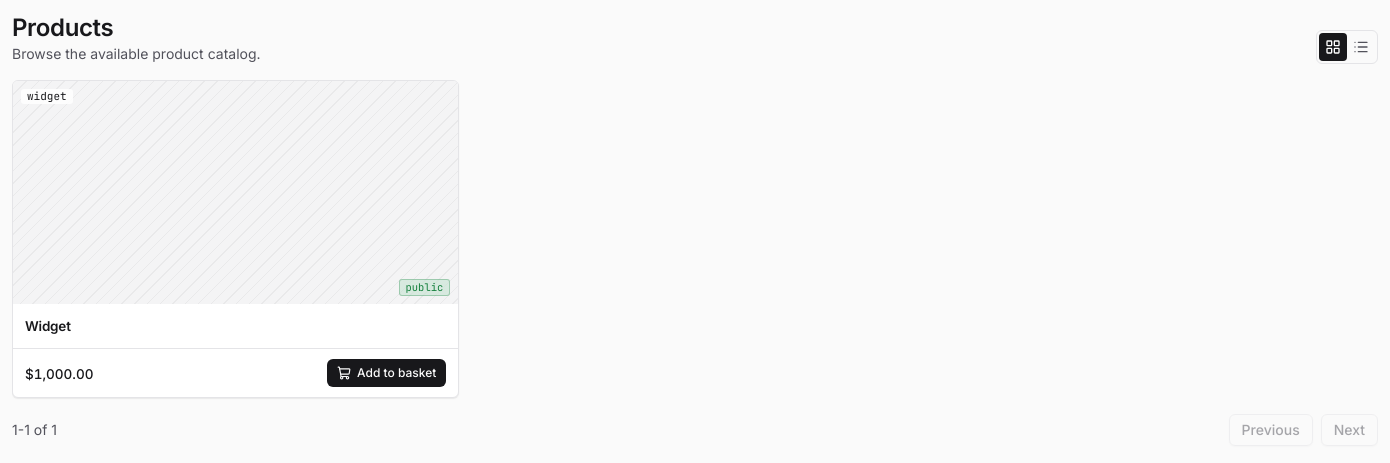
PortalProductsRoute › switching to table view re-renders with the table headers
Expected: the heading "Widget" is shown, x1=25 y1=318 x2=71 y2=334
Step 1. Click the button named "table view" → (1361, 47), box x1=1347 y1=33 x2=1375 y2=61
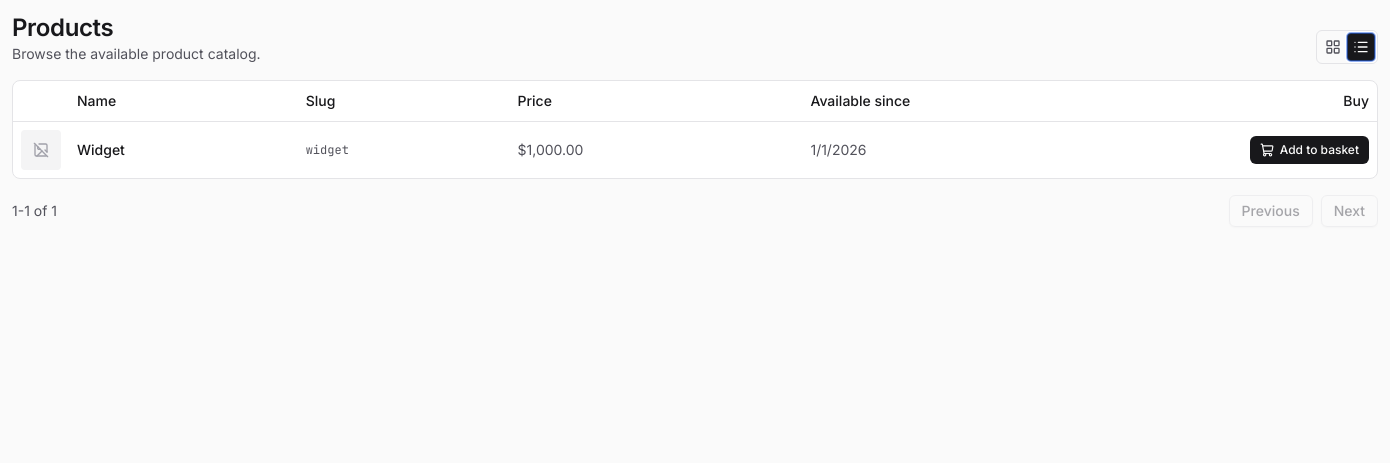
Result: the column heading "Name" is shown at x1=69 y1=81 x2=298 y2=121
Result: the column heading "Slug" is shown at x1=298 y1=81 x2=510 y2=121
Result: the column heading "Price" is shown at x1=510 y1=81 x2=802 y2=121
